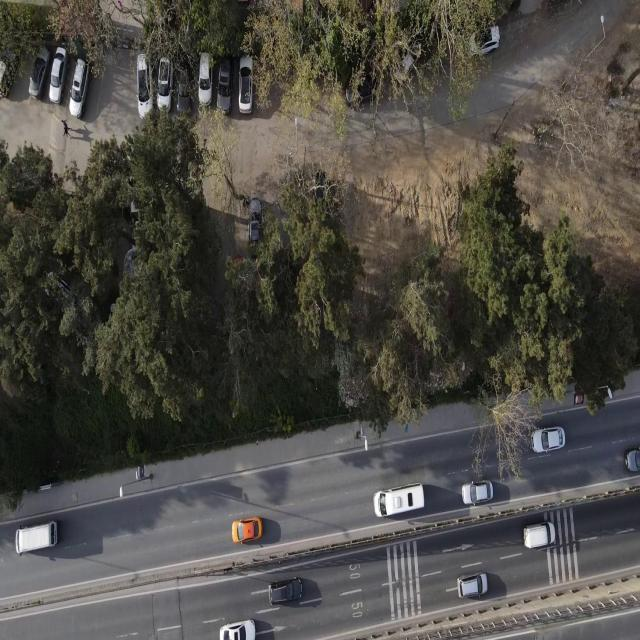p3rson: (61, 117, 72, 130), (63, 125, 71, 138)
